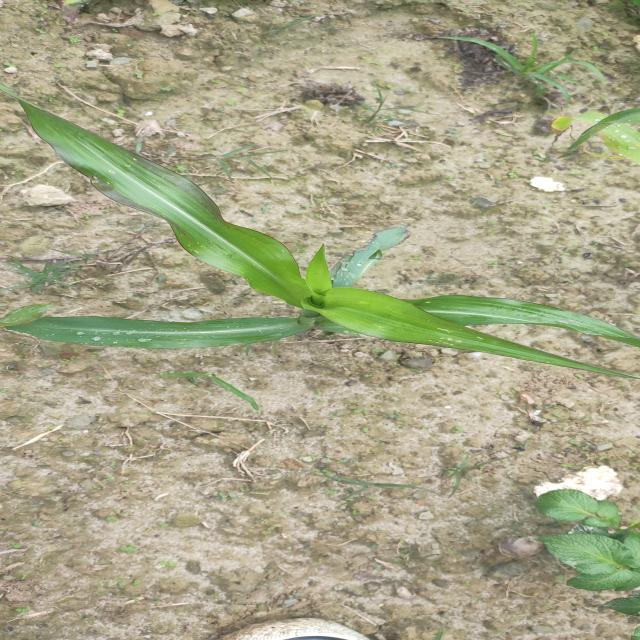maize: (0, 99, 640, 412)
weed: (517, 476, 640, 640), (432, 18, 614, 106)
